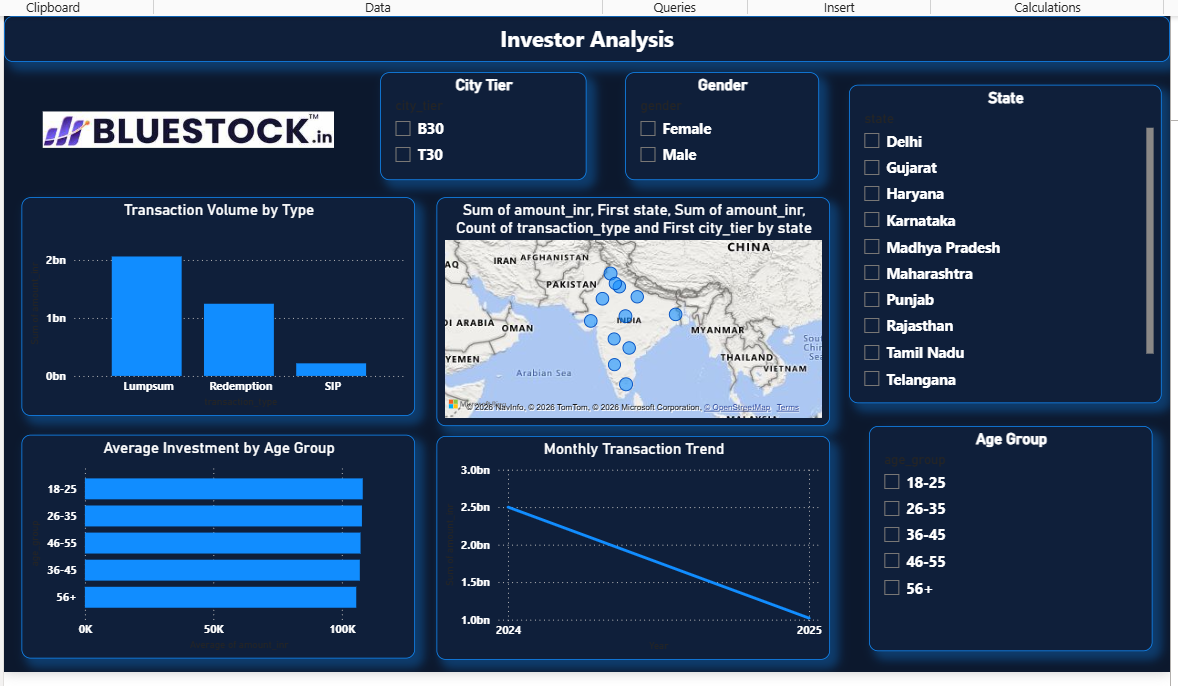

Layout of this report page (visuals, bound fields, positions):
{"tool":"powerbi","page":{"name":"Page 3","canvas":[1280,720],"ordinal":2},"visuals":[{"type":"textbox","box":[0,0,1280.3,50.8],"z":0},{"type":"map","fields":{"Category":["08_investor_transactions_clean.state"],"Size":["Sum(08_investor_transactions_clean.amount_inr)"]},"box":[474.8,199,432.2,251.1],"z":1000},{"type":"clusteredColumnChart","title":"Transaction Volume by Type","fields":{"Category":["08_investor_transactions_clean.transaction_type"],"Y":["Sum(08_investor_transactions_clean.amount_inr)"]},"box":[19.2,199,432.2,240.1],"z":2000},{"type":"clusteredBarChart","title":"Average Investment by Age Group","fields":{"Category":["08_investor_transactions_clean.age_group"],"Y":["Avg(08_investor_transactions_clean.amount_inr)"]},"box":[19.2,459.7,432.2,245.6],"z":3000},{"type":"lineChart","title":"Monthly Transaction Trend","fields":{"Category":["08_investor_transactions_clean.transaction_date.Variation.Date Hierarchy.Year","08_investor_transactions_clean.transaction_date.Variation.Date Hierarchy.Quarter","08_investor_transactions_clean.transaction_date.Variation.Date Hierarchy.Month","08_investor_transactions_clean.transaction_date.Variation.Date Hierarchy.Day"],"Y":["Sum(08_investor_transactions_clean.amount_inr)"]},"box":[474.8,461.1,432.2,245.6],"z":4000},{"type":"slicer","title":"State","fields":{"Values":["08_investor_transactions_clean.state"]},"box":[927.6,75.5,343.1,349.9],"z":5000},{"type":"slicer","title":"City Tier","fields":{"Values":["08_investor_transactions_clean.city_tier"]},"box":[413,61.7,226.4,118],"z":6000},{"type":"slicer","title":"Age Group","fields":{"Values":["08_investor_transactions_clean.age_group"]},"box":[949.6,450.1,311.5,247],"z":7000},{"type":"slicer","title":"Gender","fields":{"Values":["08_investor_transactions_clean.gender"]},"box":[682,61.7,212.7,118],"z":8000},{"type":"image","box":[42.5,0,319.7,249.7],"z":9000}]}

Visuals, with their boxes on the page's 1280x720 design canvas (x1, y1, x2, y2). These are canvas units, not pixel positions in the 1178x686 screenshot, which may show the page scaled, cropped or inside an application window:
textbox: (0,0,1280,51)
map - 08_investor_transactions_clean.state x Sum(08_investor_transactions_clean.amount_inr): (475,199,907,450)
"Transaction Volume by Type" clusteredColumnChart: (19,199,451,439)
"Average Investment by Age Group" clusteredBarChart: (19,460,451,705)
"Monthly Transaction Trend" lineChart: (475,461,907,707)
"State" slicer: (928,76,1271,425)
"City Tier" slicer: (413,62,639,180)
"Age Group" slicer: (950,450,1261,697)
"Gender" slicer: (682,62,895,180)
image: (42,0,362,250)
